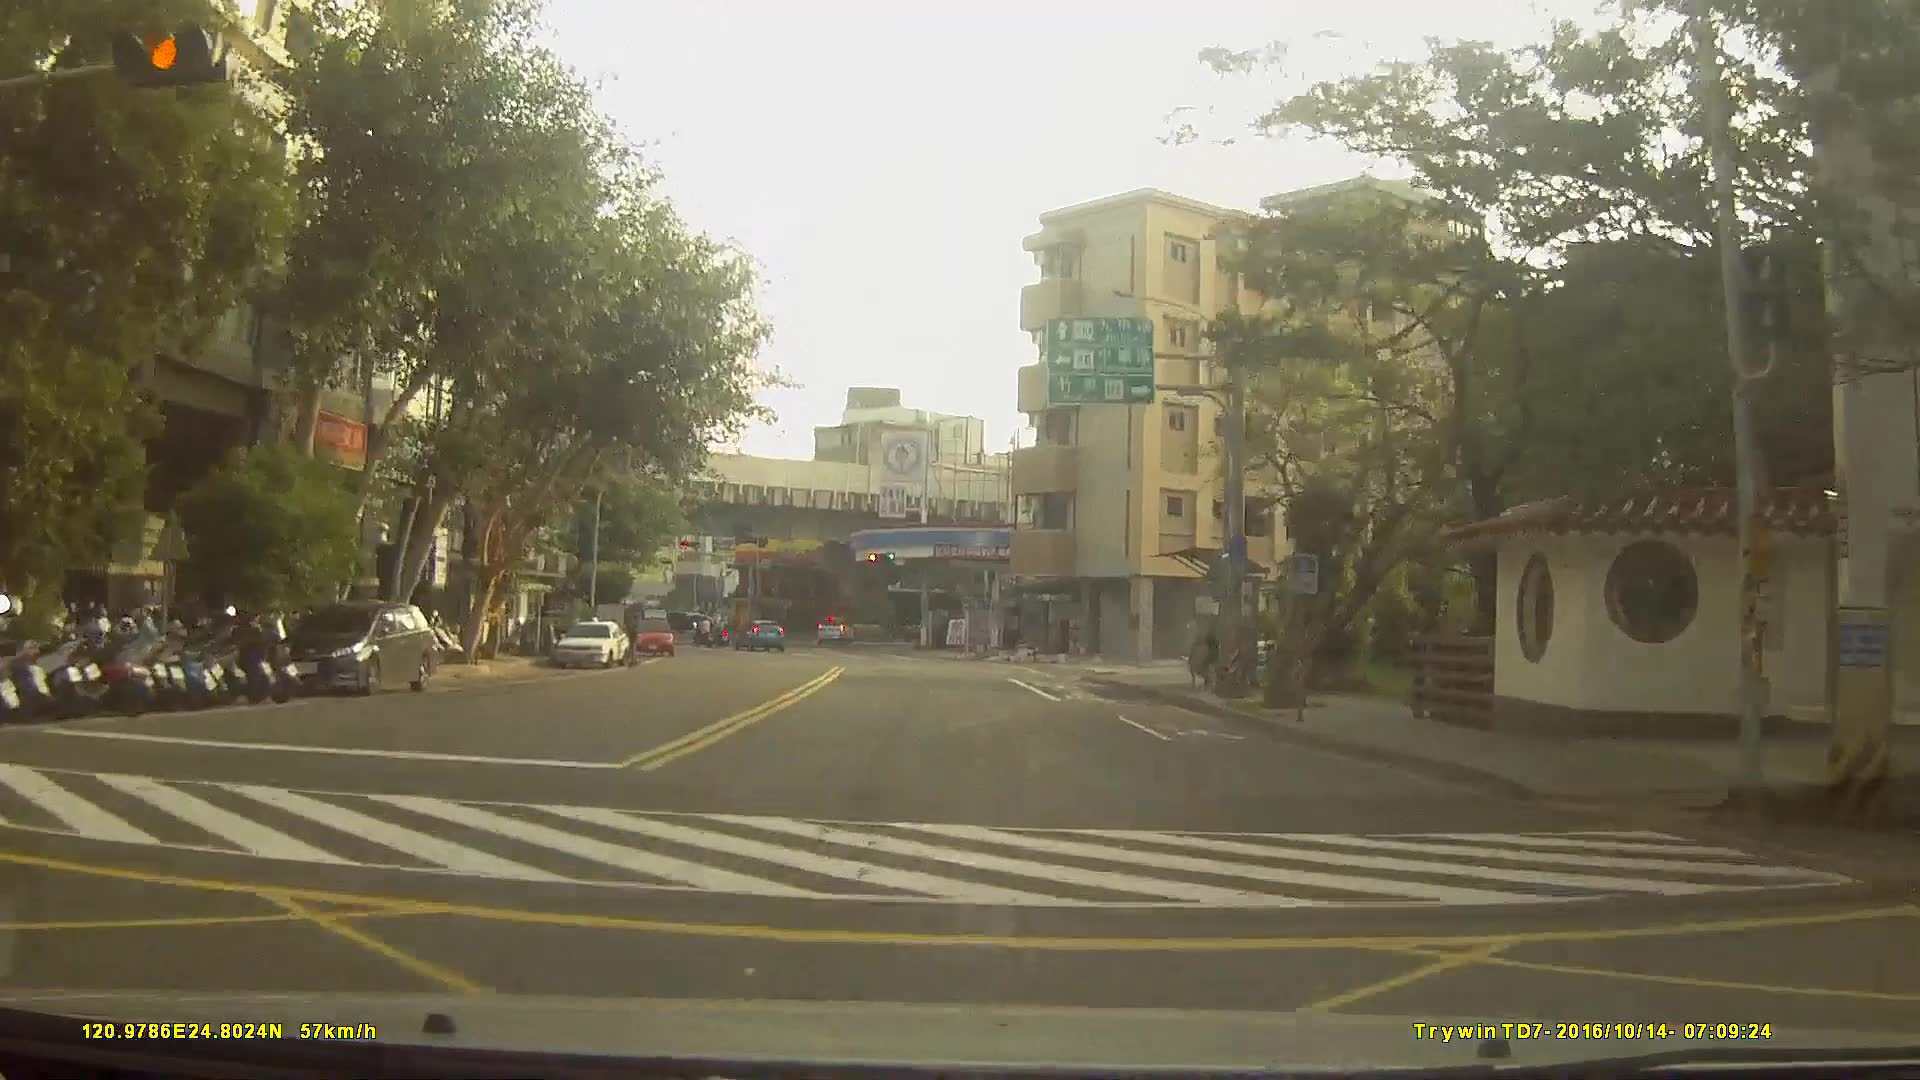rider: (691, 616, 716, 651)
vehicle: (275, 596, 437, 697), (552, 619, 631, 671), (632, 613, 675, 653), (731, 618, 785, 650), (815, 612, 855, 640)
